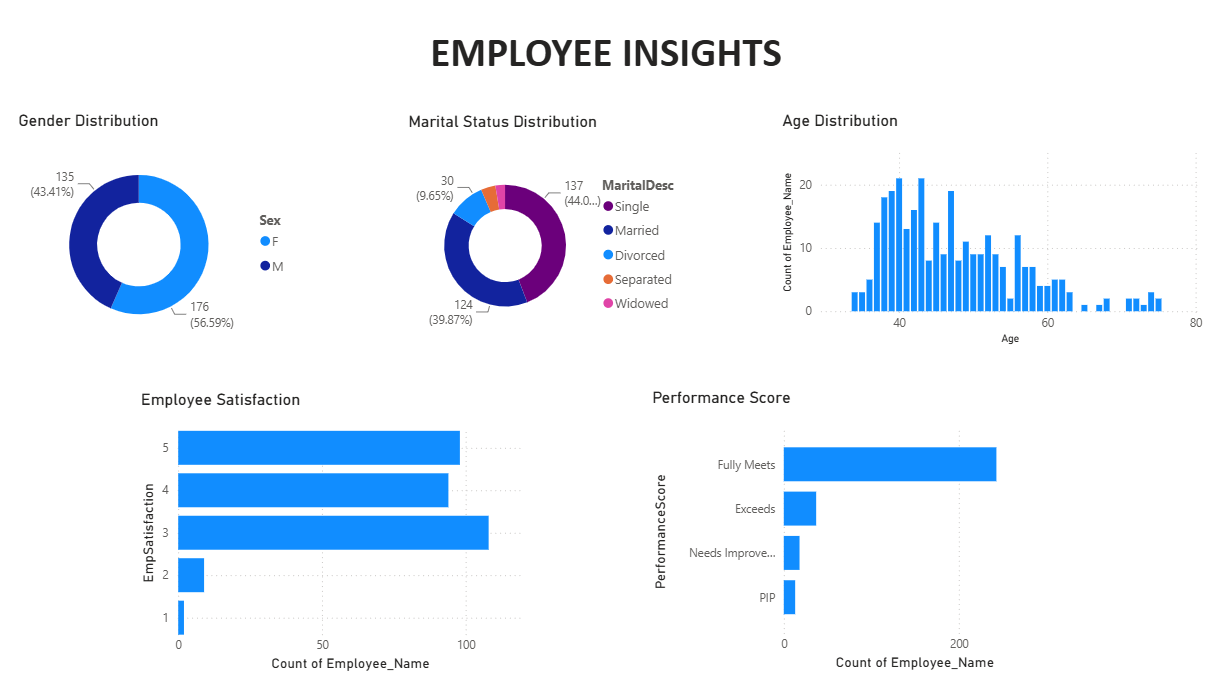

Layout of this report page (visuals, bound fields, positions):
{"tool":"powerbi","page":{"name":"Employee Insights","canvas":[1280,720],"ordinal":1},"visuals":[{"type":"textbox","box":[24.7,30.2,1230.9,64.5],"z":0},{"type":"donutChart","title":"Gender Distribution","fields":{"Category":["HRDataset_v14.Sex"],"Y":["CountNonNull(HRDataset_v14.Employee_Name)"]},"box":[24.7,122.1,303.3,248.4],"z":1},{"type":"donutChart","title":"Marital Status Distribution","fields":{"Category":["HRDataset_v14.MaritalDesc"],"Y":["CountNonNull(HRDataset_v14.Employee_Name)"]},"box":[429.5,123.5,303,248],"z":2},{"type":"clusteredColumnChart","title":"Age Distribution","fields":{"Category":["HRDataset_v14.Age"],"Y":["CountNonNull(HRDataset_v14.Employee_Name)"]},"box":[817.8,122.1,447.3,248.4],"z":3},{"type":"clusteredBarChart","title":"Employee Satisfaction","fields":{"Y":["CountNonNull(HRDataset_v14.Employee_Name)"],"Category":["HRDataset_v14.EmpSatisfaction"]},"box":[152.3,411.7,417.2,297.8],"z":4},{"type":"clusteredBarChart","title":"Performance Score","fields":{"Category":["HRDataset_v14.PerformanceScore"],"Y":["CountNonNull(HRDataset_v14.Employee_Name)"]},"box":[683.4,410.3,429.5,297.8],"z":5}]}

Visuals, with their boxes in screenshot pixels (x1, y1, x2, y2), scaled from the page's 1280x720 canvas onto the 1211x677 screenshot:
textbox: 23:28:1188:89
"Gender Distribution" donutChart: 23:115:310:348
"Marital Status Distribution" donutChart: 406:116:693:349
"Age Distribution" clusteredColumnChart: 774:115:1197:348
"Employee Satisfaction" clusteredBarChart: 144:387:539:667
"Performance Score" clusteredBarChart: 647:386:1053:666
